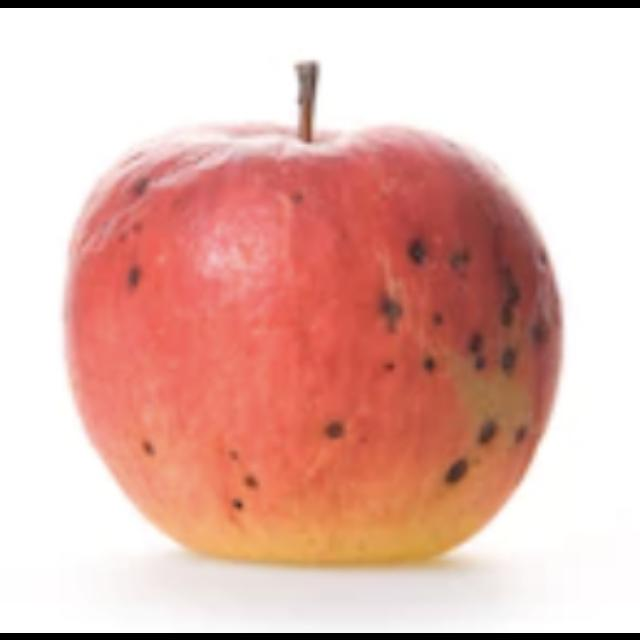Apel Tidak Segar: (62, 110, 569, 582)
